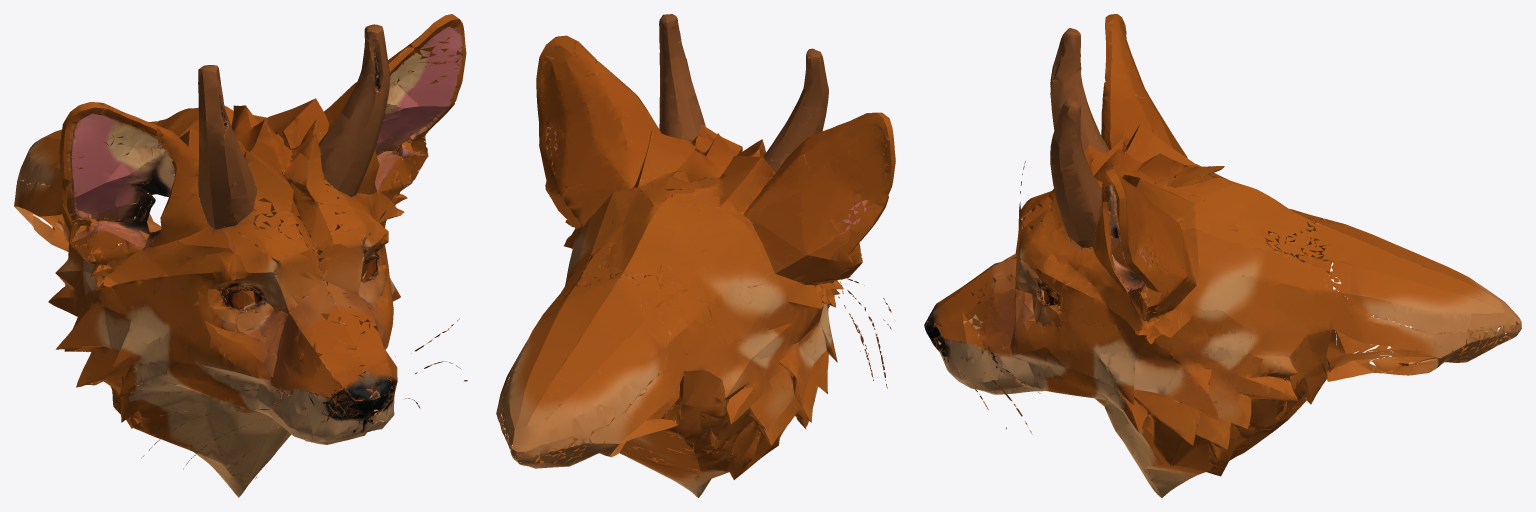
The picture shows the model from 3 angles, left to right: view 1: azimuth 30°, elevation 25°; view 2: azimuth 150°, elevation 25°; view 3: azimuth 270°, elevation 25°; orthographic projection. The views are drawn at different scales.
Visible parts, largest first — view 1: world; view 2: world; view 3: world.
Part boxes in pixels (bbox=[...]): world: bbox=[14, 14, 467, 497]; world: bbox=[496, 14, 895, 497]; world: bbox=[924, 14, 1521, 497].
Size of the model in its own units: 0.6908 by 0.8006 by 1.
1 material, 1 textured.
